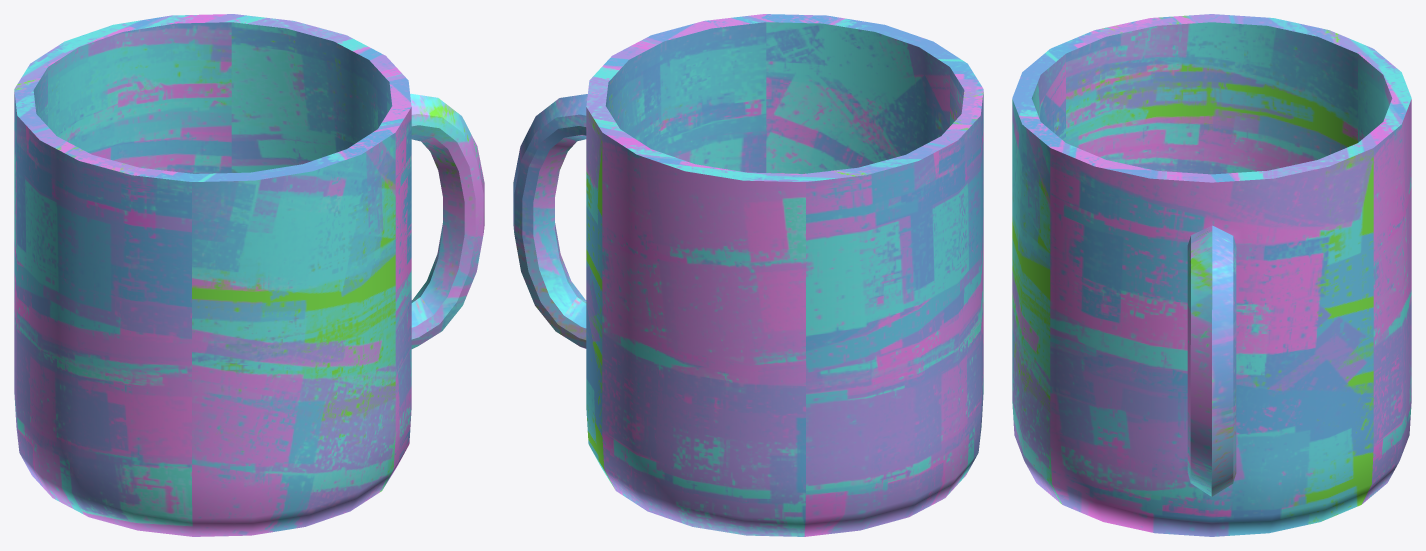
Rendered from CystalMug.obj.
3 views of the same model, side by side, from view 1: azimuth 30°, elevation 25°; view 2: azimuth 150°, elevation 25°; view 3: azimuth 270°, elevation 25° (orthographic).
Parts seen in each view (by area): view 1: Mug:pCylinder12; view 2: Mug:pCylinder12; view 3: Mug:pCylinder12.
Boxes of the visible parts, <box> form: Mug:pCylinder12: <box>14,14,484,536</box>; Mug:pCylinder12: <box>513,14,983,536</box>; Mug:pCylinder12: <box>1012,14,1411,536</box>.
Size of the model in its own units: 1.33 by 1.03 by 1.04.
